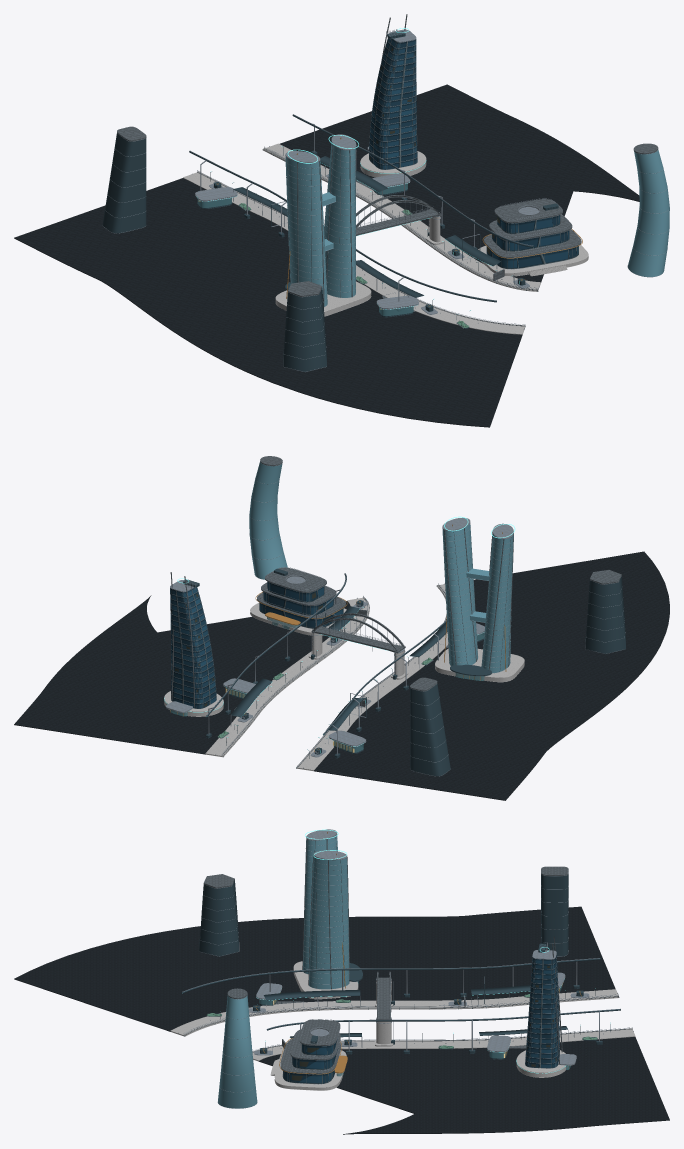
File: waterfront-low.glb
3 views of the same model, one above another, from view 1: azimuth 30°, elevation 25°; view 2: azimuth 150°, elevation 25°; view 3: azimuth 270°, elevation 25° (orthographic). The views are drawn at different scales.
Parts seen in each view (by area): view 1: Sample_Graphite_plaza_paving, Sample_Silver_blue_glazing, Sample_Graphite_joint_seals, Sample_CC0_Concrete034, Sample_Coated_architectural_alloy, Sample_CC0_Metal032, Sample_Blue_laminated_glazing, Sample_Marina_teal_glazing, Sample_Recessed_lobby_glass; view 2: Sample_Graphite_plaza_paving, Sample_Silver_blue_glazing, Sample_Graphite_joint_seals, Sample_CC0_Concrete034, Sample_Coated_architectural_alloy, Sample_CC0_Metal032, Sample_Blue_laminated_glazing, Sample_Marina_teal_glazing, Sample_Recessed_lobby_glass, Sample_Amber_anodized_alloy; view 3: Sample_Graphite_plaza_paving, Sample_Silver_blue_glazing, Sample_Graphite_joint_seals, Sample_CC0_Concrete034, Sample_CC0_Metal032, Sample_Coated_architectural_alloy, Sample_Blue_laminated_glazing, Sample_Marina_teal_glazing.
Boxes of the visible parts, x1,y1,x2,y2 form: Sample_Graphite_plaza_paving: (14, 84, 639, 427); Sample_Silver_blue_glazing: (285, 142, 669, 306); Sample_Graphite_joint_seals: (102, 31, 558, 371); Sample_CC0_Concrete034: (183, 143, 588, 334); Sample_Coated_architectural_alloy: (117, 14, 658, 326); Sample_CC0_Metal032: (103, 29, 669, 372); Sample_Blue_laminated_glazing: (369, 38, 417, 169); Sample_Marina_teal_glazing: (486, 215, 578, 269); Sample_Recessed_lobby_glass: (197, 183, 413, 315); Sample_Graphite_plaza_paving: (14, 551, 669, 800); Sample_Silver_blue_glazing: (249, 462, 513, 673); Sample_Graphite_joint_seals: (183, 568, 625, 776); Sample_CC0_Concrete034: (164, 584, 524, 771); Sample_Coated_architectural_alloy: (170, 456, 621, 766); Sample_CC0_Metal032: (166, 463, 625, 776); Sample_Blue_laminated_glazing: (170, 587, 216, 708); Sample_Marina_teal_glazing: (259, 581, 343, 628); Sample_Recessed_lobby_glass: (170, 617, 484, 752); Sample_Amber_anodized_alloy: (170, 524, 506, 752); Sample_Graphite_plaza_paving: (14, 906, 669, 1134); Sample_Silver_blue_glazing: (218, 834, 349, 1108); Sample_Graphite_joint_seals: (182, 874, 620, 1059); Sample_CC0_Concrete034: (170, 961, 635, 1090); Sample_CC0_Metal032: (178, 829, 633, 1108); Sample_Coated_architectural_alloy: (184, 835, 632, 1083); Sample_Blue_laminated_glazing: (525, 955, 559, 1068); Sample_Marina_teal_glazing: (283, 1038, 338, 1084).
Bounding box in the file's own units: 353 × 100 × 430.
13 materials, 6 textured.
